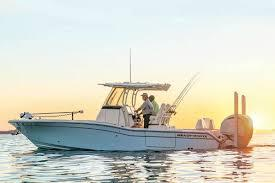fishing boat: (6, 46, 255, 152)
